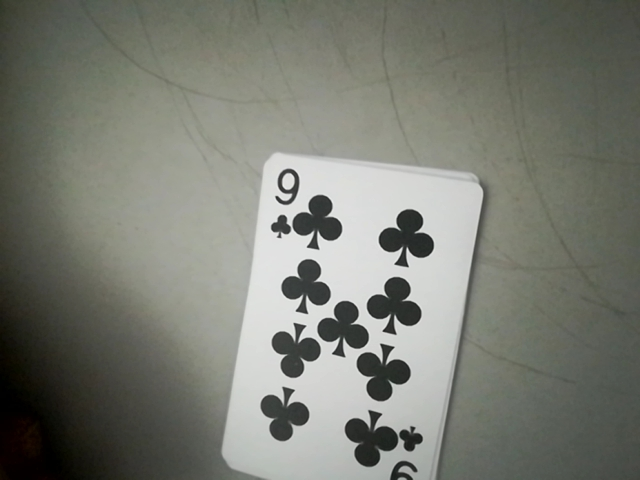mh 9: (263, 155, 312, 236)
